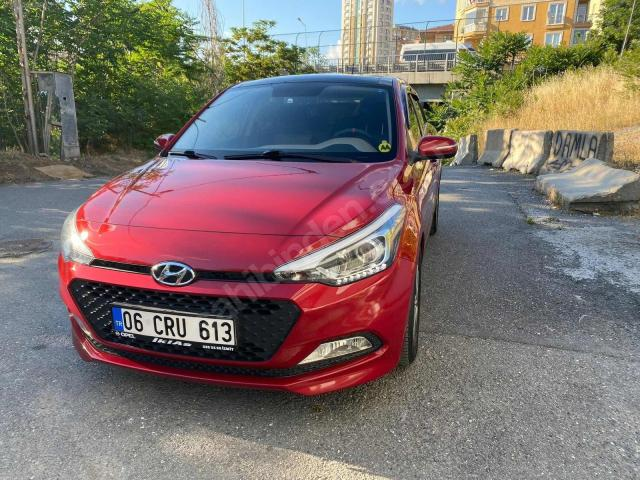plaka: (112, 304, 236, 350)
